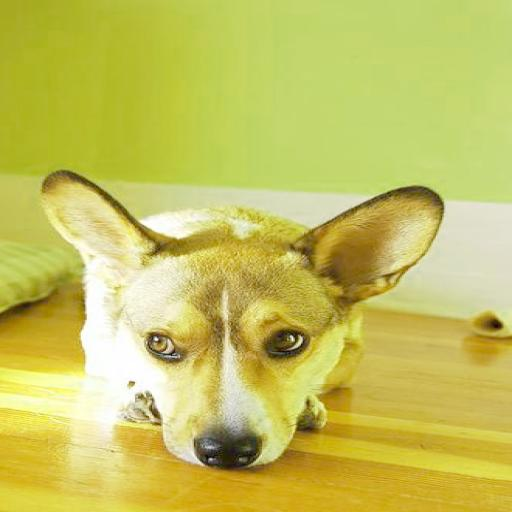dog_face: (29, 174, 444, 471)
